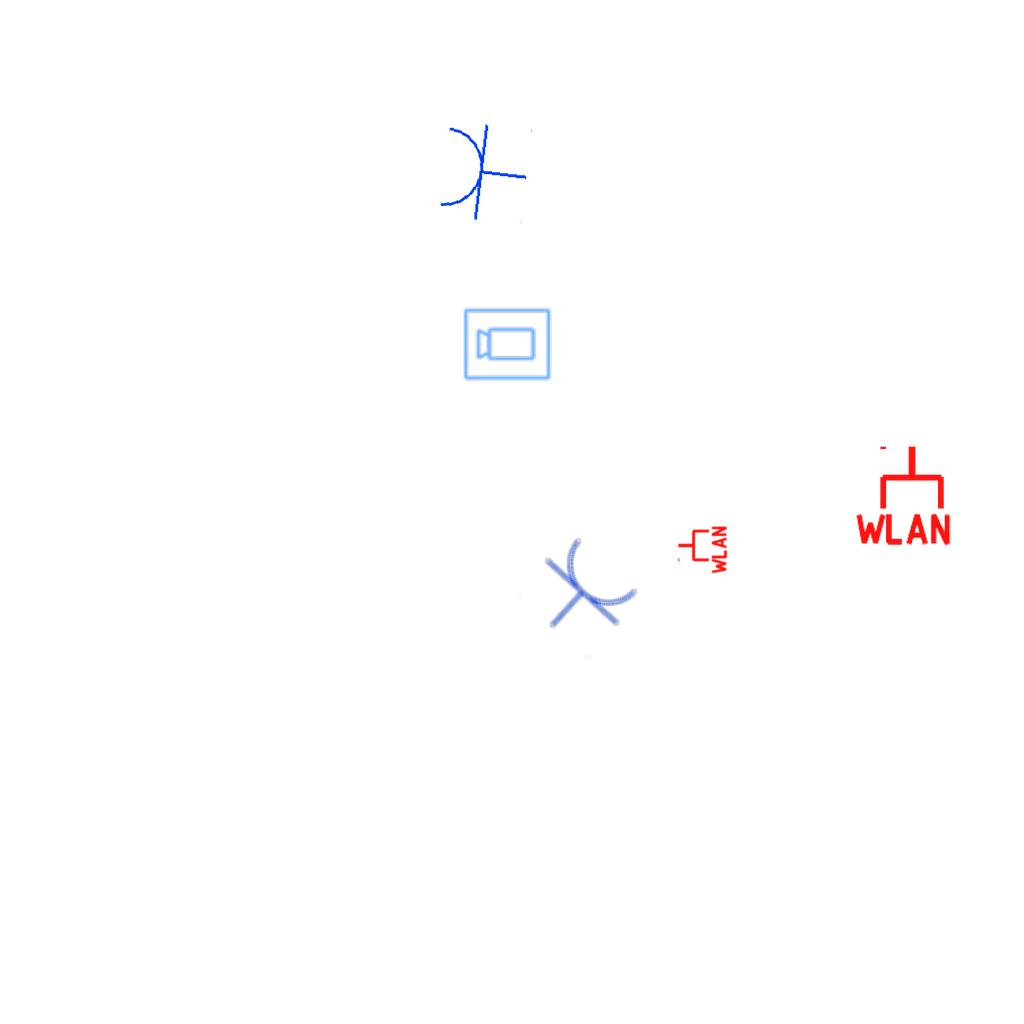KFO_Kamera_mit_Festobjektiv: (462, 305, 553, 382)
Schukosteckdose_einfach: (514, 528, 648, 661), (434, 116, 534, 227)
WLAN: (851, 442, 955, 547), (676, 524, 728, 576)
